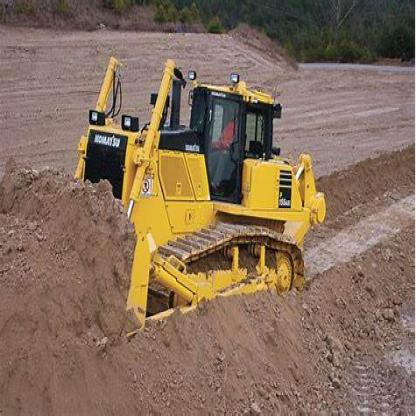bull_dozer/loader/grader: (55, 47, 331, 349)
